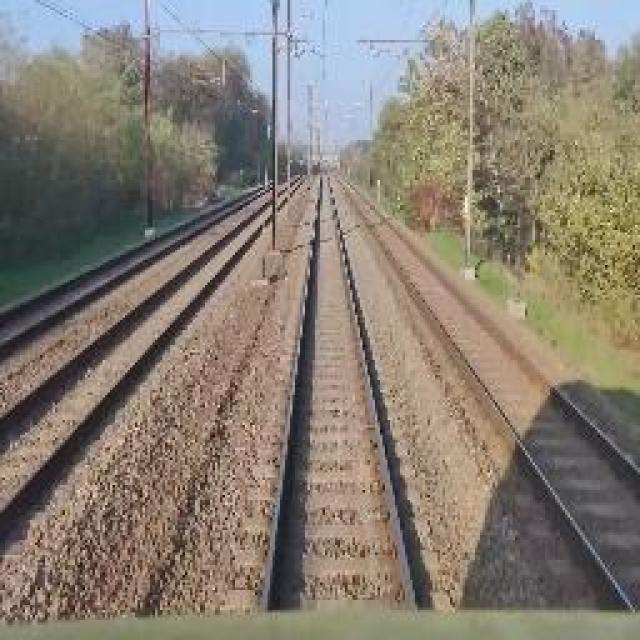rail: (332, 177, 640, 612), (1, 170, 312, 580), (215, 168, 455, 622)
